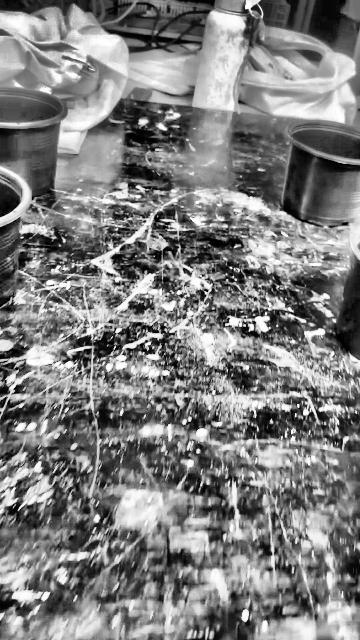pot: (283, 120, 359, 227), (0, 87, 67, 206)
